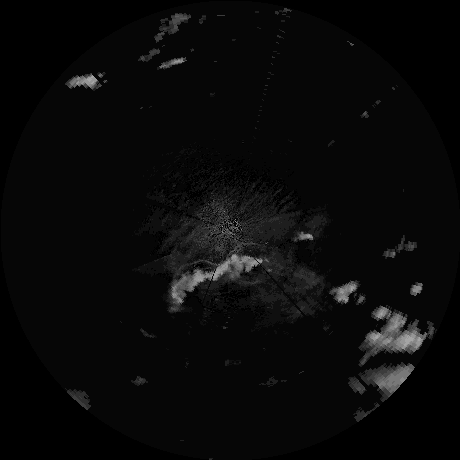frontgust: (171, 259, 214, 281), (226, 242, 260, 257)
